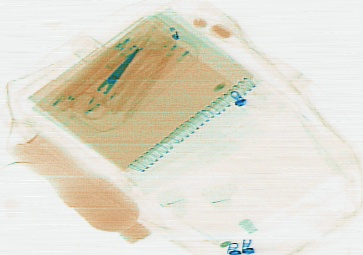scissors: (67, 46, 141, 120)
